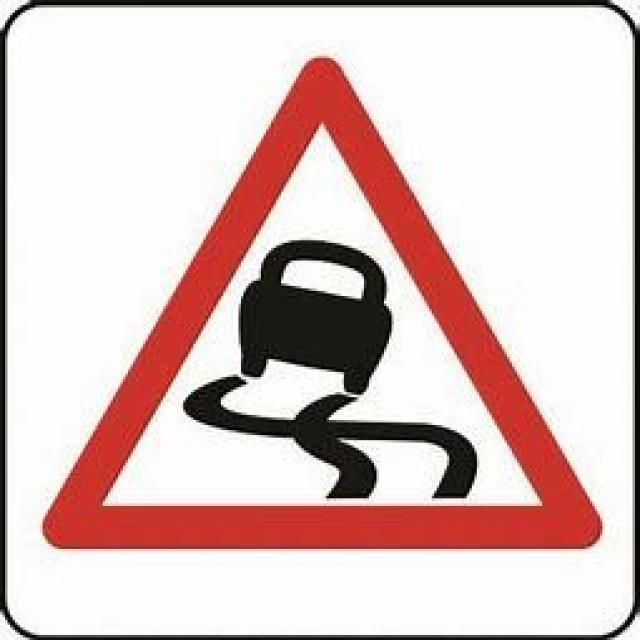slippery road: (39, 51, 603, 557)
